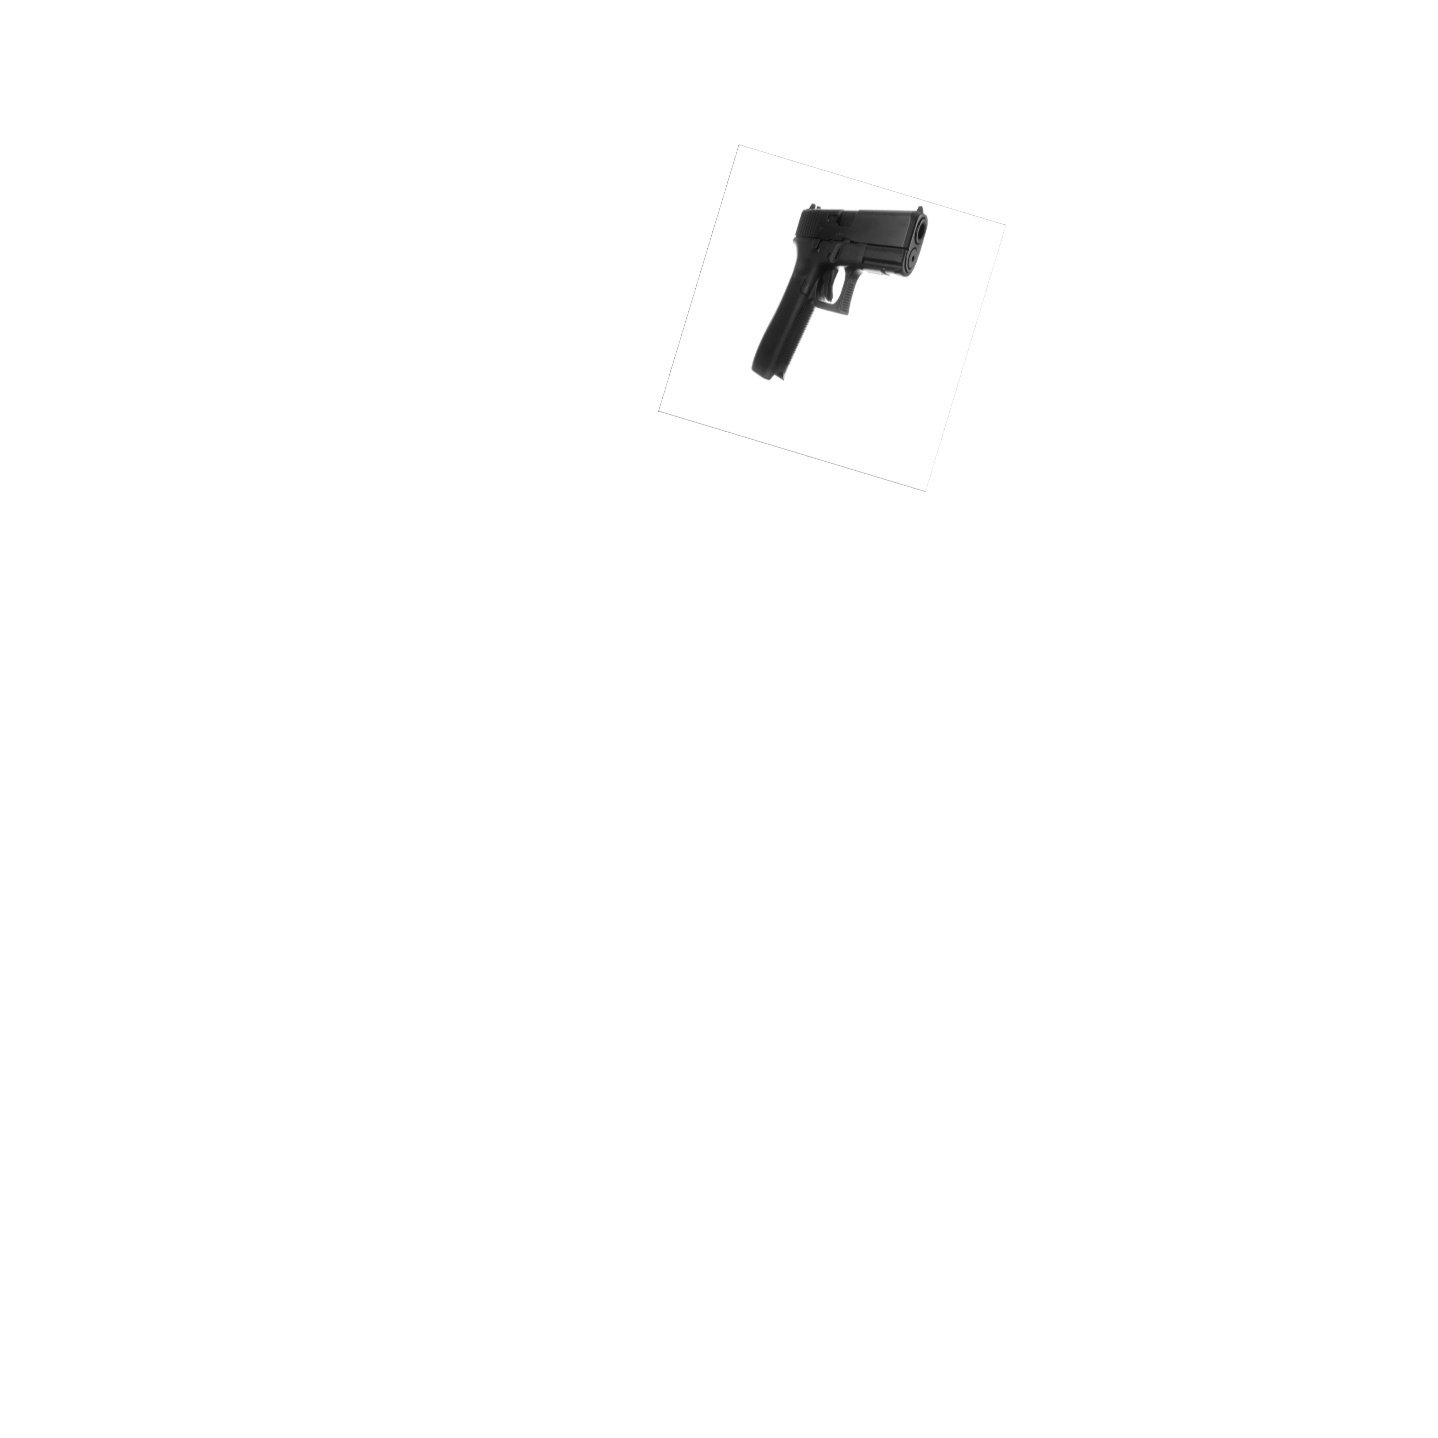gun: (744, 201, 939, 383)
